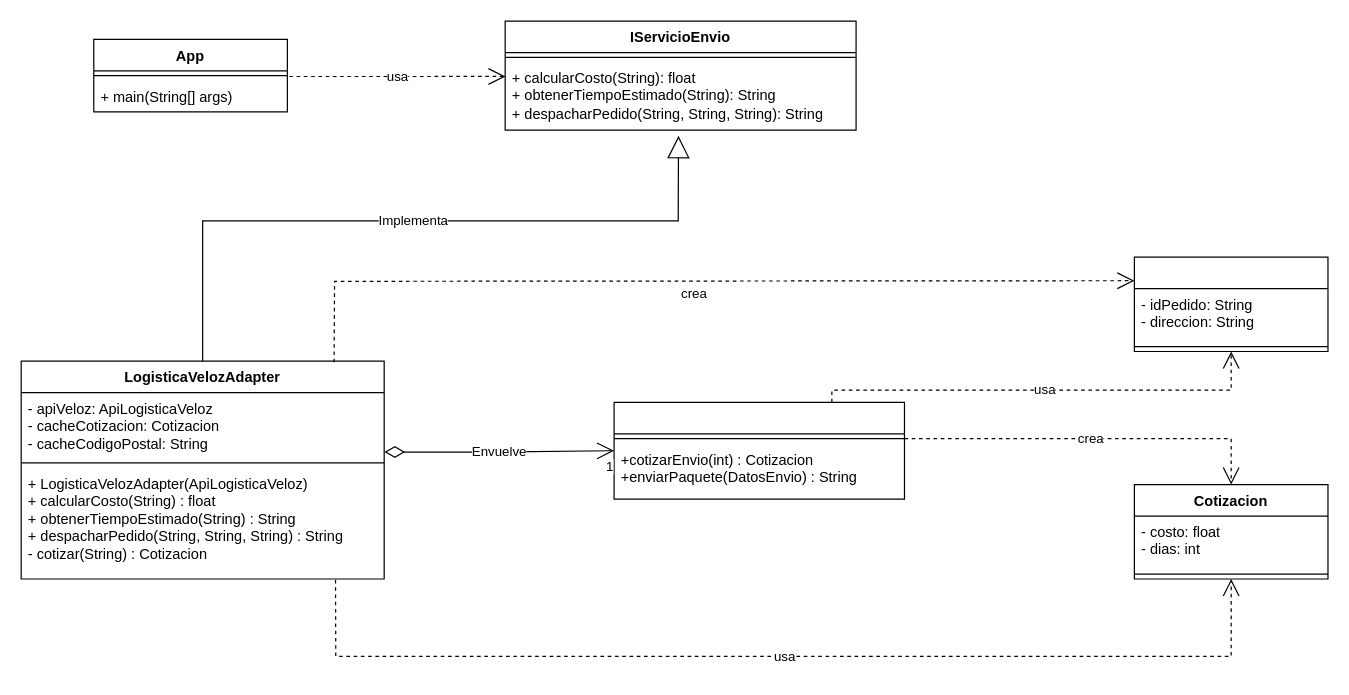
Some shapes in this 1349 by 695 pixel diagram are drawn without their labels. The shapes that lost their labels are listed below. From the top down, each one's box as (x1, y1, x2, y2) in pixels, then its label:
(1133, 256, 1328, 352): DatosEnvio
(613, 401, 904, 499): ApiLogisticaVeloz
